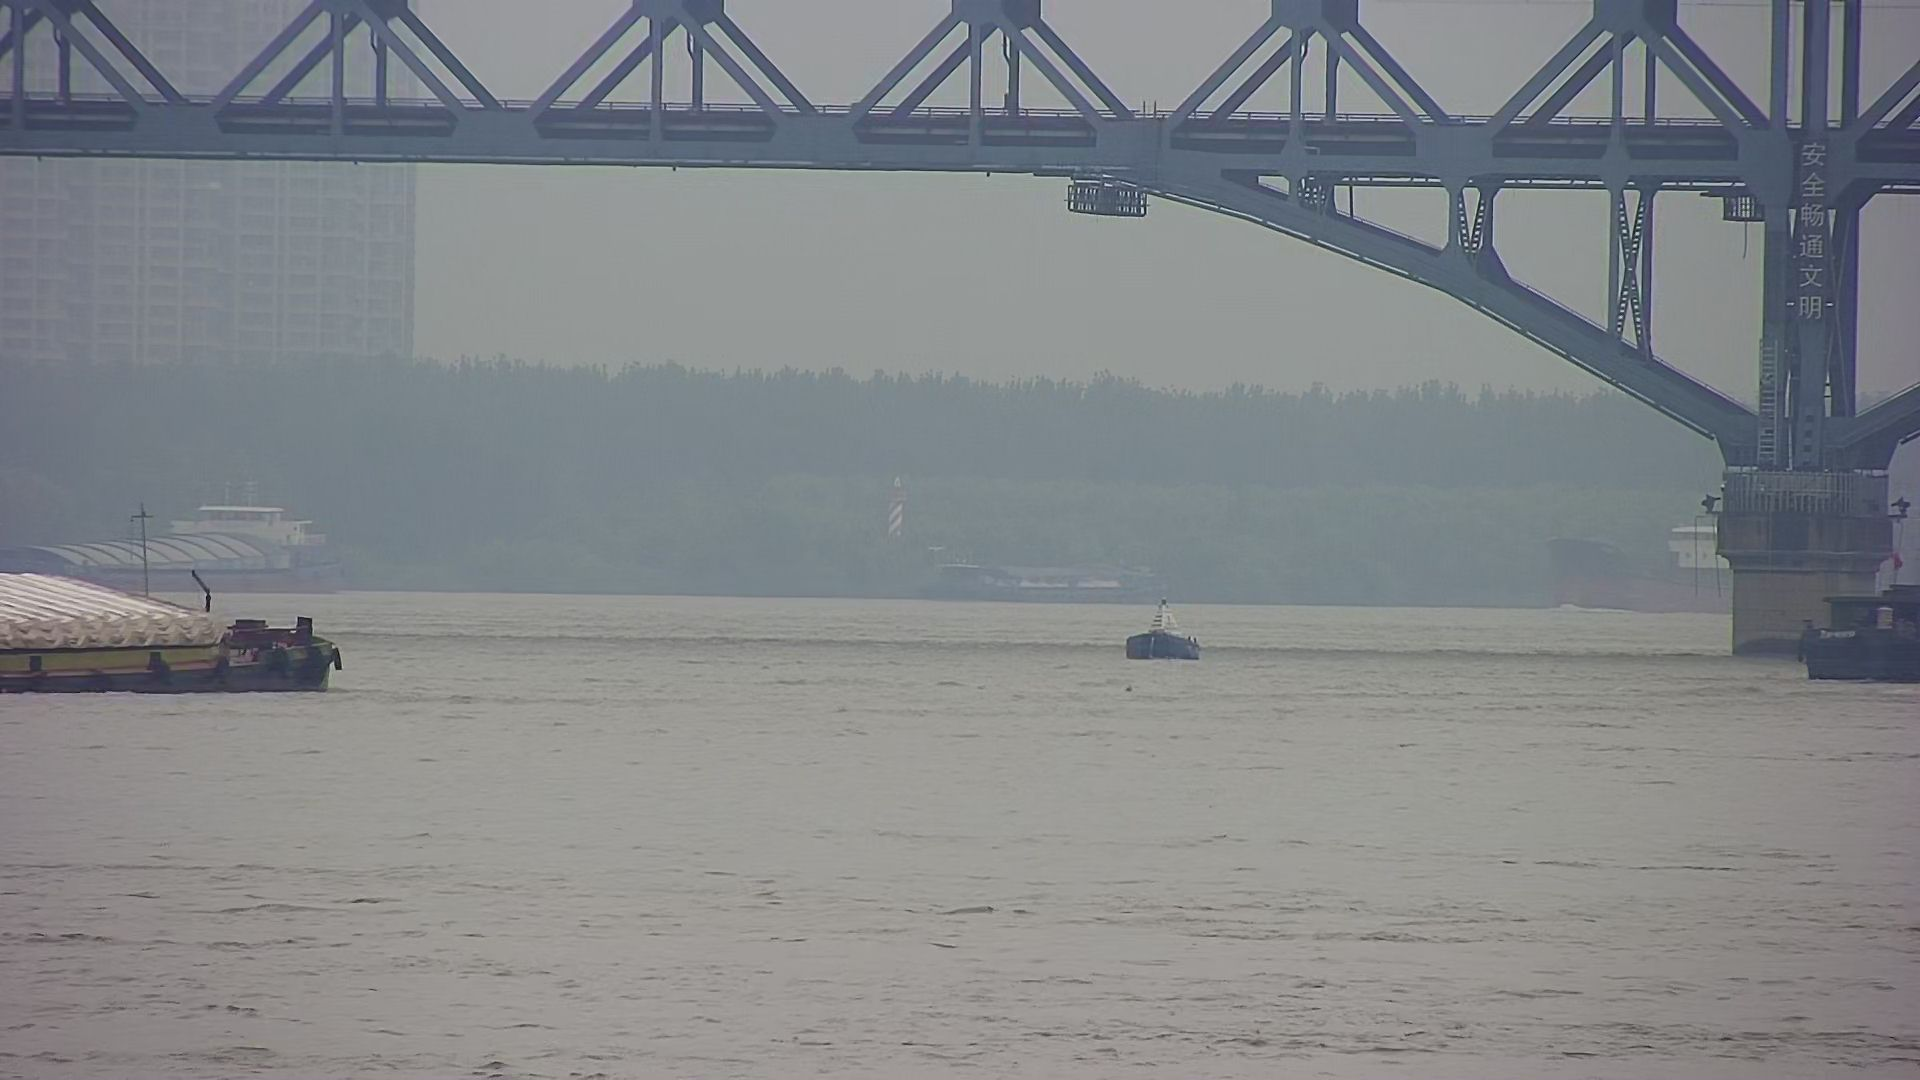boat: (1116, 595, 1216, 673)
bridge: (1, 1, 1912, 665)
ship: (1, 500, 355, 700), (1, 462, 369, 596), (909, 535, 1189, 605)
